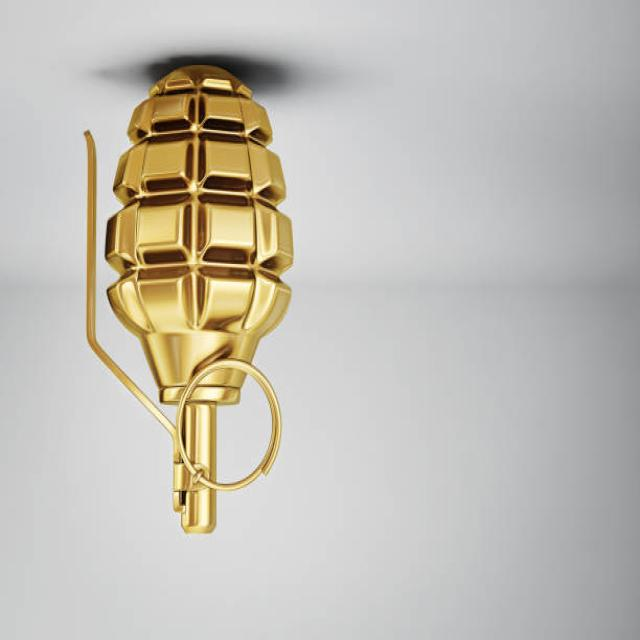grenade: (79, 52, 300, 546)
